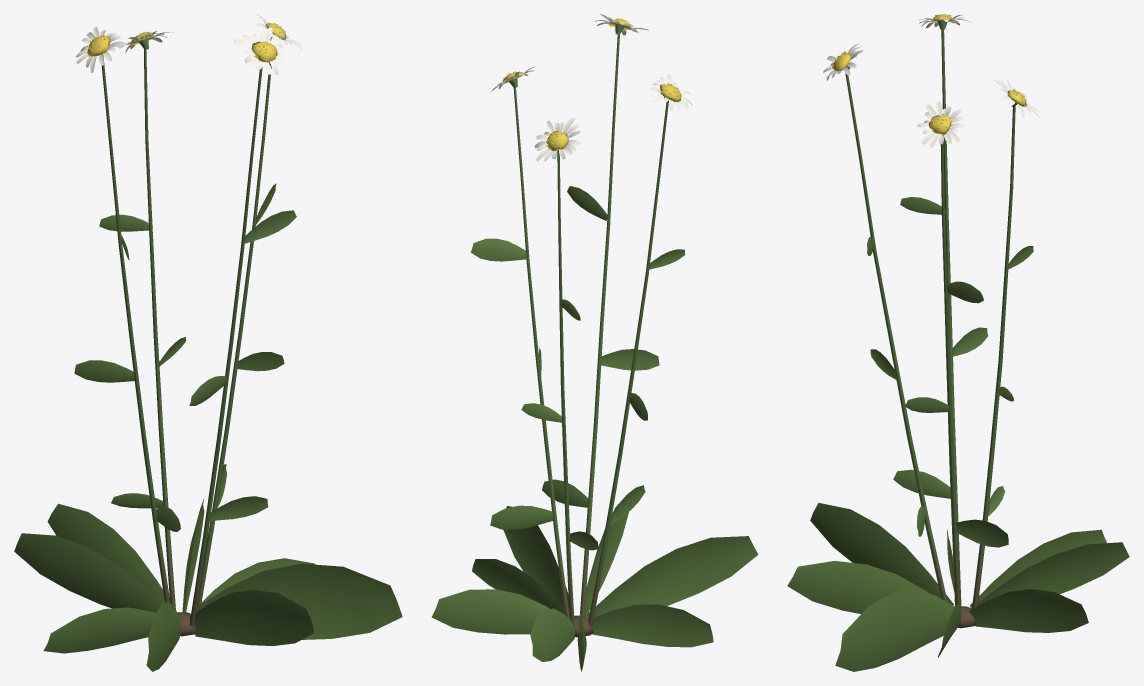
Rendered from Daisy.glb.
3 renders of one model, left to right at view 1: azimuth 30°, elevation 25°; view 2: azimuth 150°, elevation 25°; view 3: azimuth 270°, elevation 25°, orthographic. The views are drawn at different scales.
Parts seen in each view (by area): view 1: Plant; view 2: Plant; view 3: Plant.
Part boxes in pixels (x1=…): Plant: x1=14, y1=14, x2=402, y2=671; Plant: x1=431, y1=14, x2=758, y2=671; Plant: x1=787, y1=14, x2=1129, y2=671.
Bounding box in the file's own units: 0.3278 × 0.6788 × 0.3591.
